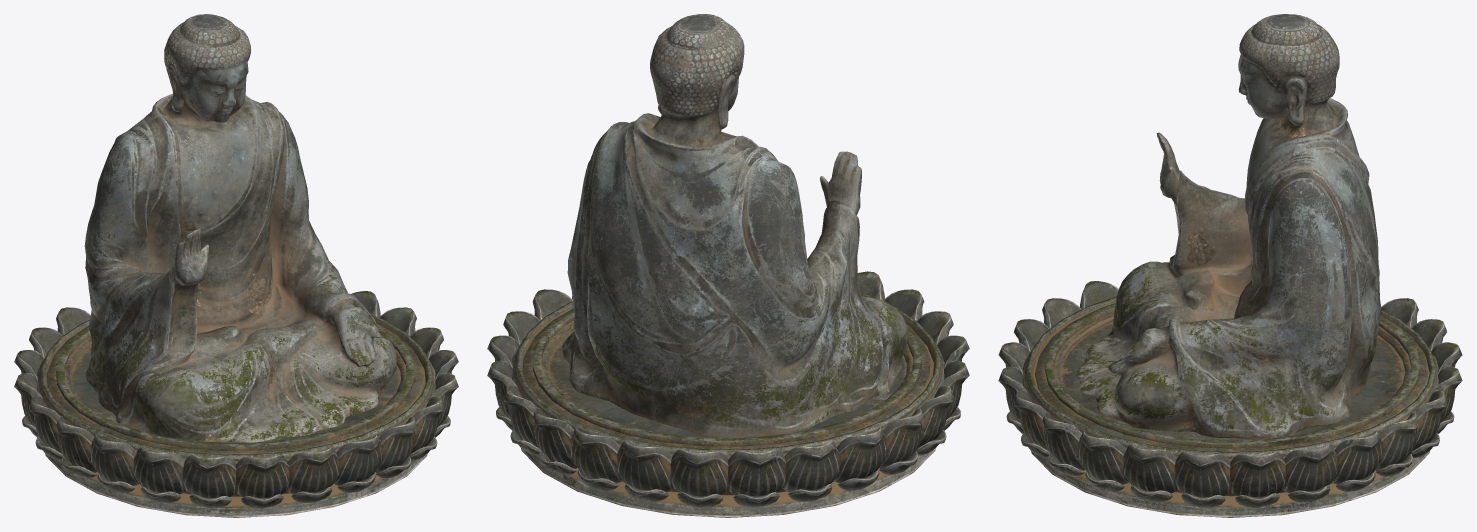
File: thichca_da.glb
3 views of the same model, side by side, from view 1: azimuth 30°, elevation 25°; view 2: azimuth 150°, elevation 25°; view 3: azimuth 270°, elevation 25° (orthographic). The views are drawn at different scales.
Parts seen in each view (by area): view 1: fo_L:polySurface18, all_LOW:di_zuoLgroup2, all_LOW:group3polySurface12, all_LOW:group3polySurface16, all_LOW:polySurface15group3, all_LOW:group3polySurface17; view 2: fo_L:polySurface18, all_LOW:di_zuoLgroup2, all_LOW:group3polySurface17, all_LOW:group3polySurface16, all_LOW:polySurface15group3, all_LOW:group3polySurface12; view 3: fo_L:polySurface18, all_LOW:di_zuoLgroup2, all_LOW:polySurface15group3, all_LOW:group3polySurface12, all_LOW:group3polySurface17, all_LOW:group3polySurface16.
Boxes of the visible parts, x1,y1,x2,y2 form: fo_L:polySurface18: (84,14,396,442); all_LOW:di_zuoLgroup2: (36,314,435,517); all_LOW:group3polySurface12: (183,395,443,508); all_LOW:group3polySurface16: (14,350,186,502); all_LOW:polySurface15group3: (351,291,458,437); all_LOW:group3polySurface17: (29,307,90,358); fo_L:polySurface18: (562,14,907,437); all_LOW:di_zuoLgroup2: (511,292,944,517); all_LOW:group3polySurface17: (503,385,785,507); all_LOW:group3polySurface16: (783,335,969,501); all_LOW:polySurface15group3: (487,289,572,430); all_LOW:group3polySurface12: (857,271,953,344); fo_L:polySurface18: (1076,14,1380,439); all_LOW:di_zuoLgroup2: (1023,296,1438,517); all_LOW:polySurface15group3: (1078,430,1382,508); all_LOW:group3polySurface12: (998,298,1085,476); all_LOW:group3polySurface17: (1375,298,1462,476); all_LOW:group3polySurface16: (1080,281,1380,309).
Bounding box in the file's own units: 0.0397 × 0.0388 × 0.0397.
Materials: 2 (2 with a texture image).
